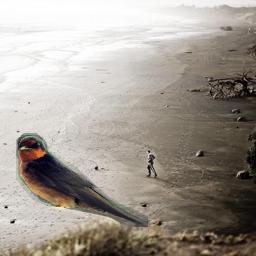Swallow: (16, 133, 148, 227)
